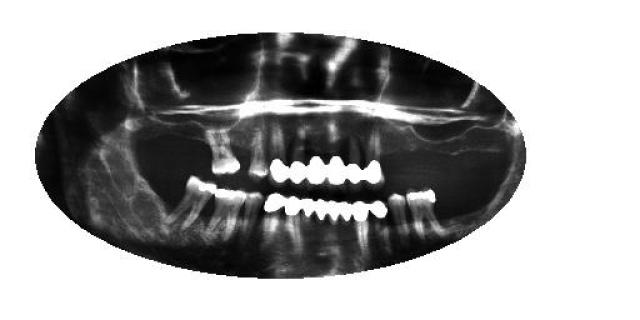Fillings: (166, 174, 216, 231), (204, 188, 248, 242), (405, 189, 443, 239), (364, 127, 385, 185), (269, 125, 290, 183), (288, 131, 308, 184), (264, 194, 285, 240), (368, 200, 388, 245), (328, 140, 347, 186), (284, 196, 302, 244), (352, 200, 368, 252), (346, 138, 364, 184), (308, 138, 326, 184), (300, 198, 316, 240), (328, 201, 342, 244), (315, 198, 327, 242), (340, 200, 352, 242)
